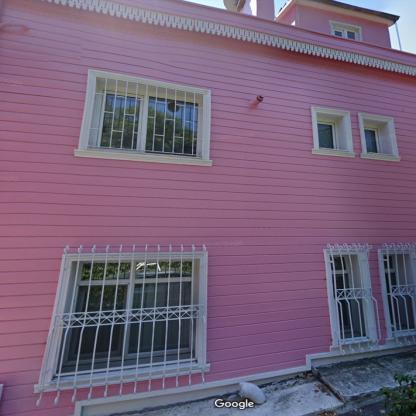window: (54, 260, 196, 376), (96, 90, 200, 158), (328, 256, 356, 332), (384, 256, 402, 325), (316, 122, 335, 148), (364, 129, 380, 153), (334, 28, 355, 40)
